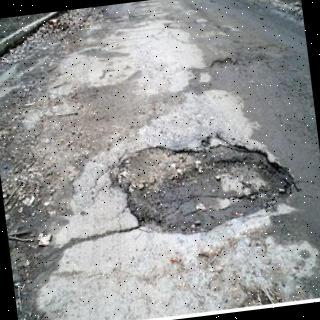pothole: (116, 146, 299, 236)
